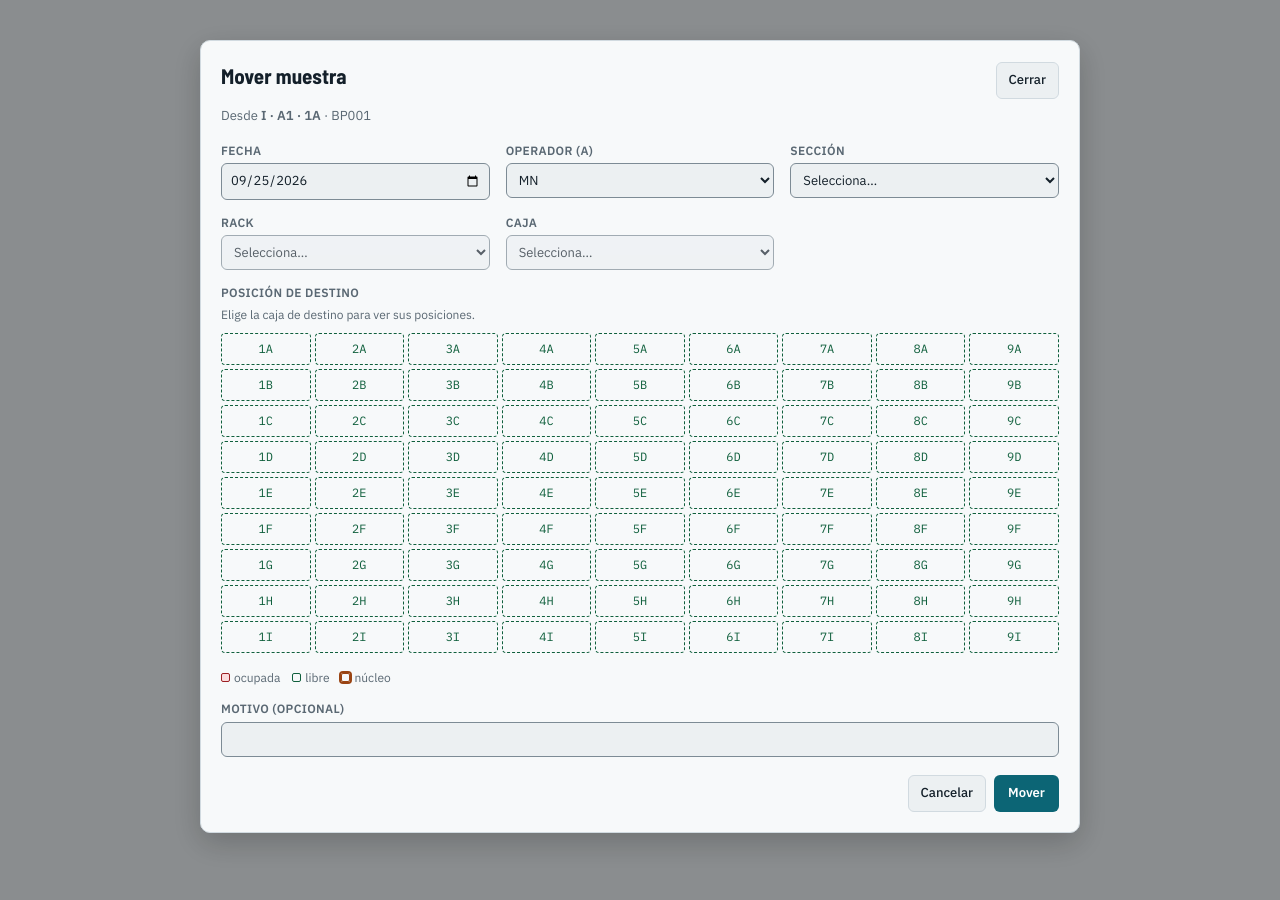
MoveModal · grilla de destino › no deja elegir posición hasta que hay una caja de destino válida
Expected: the text "Elige la caja de destino para ver sus posiciones." is shown, [221, 307, 475, 322]
Expected: the button named "posición 3b," is disabled, [408, 369, 498, 401]
Select "I" in the dropdown labelled "Sección" at (925, 181), box [790, 163, 1059, 198]
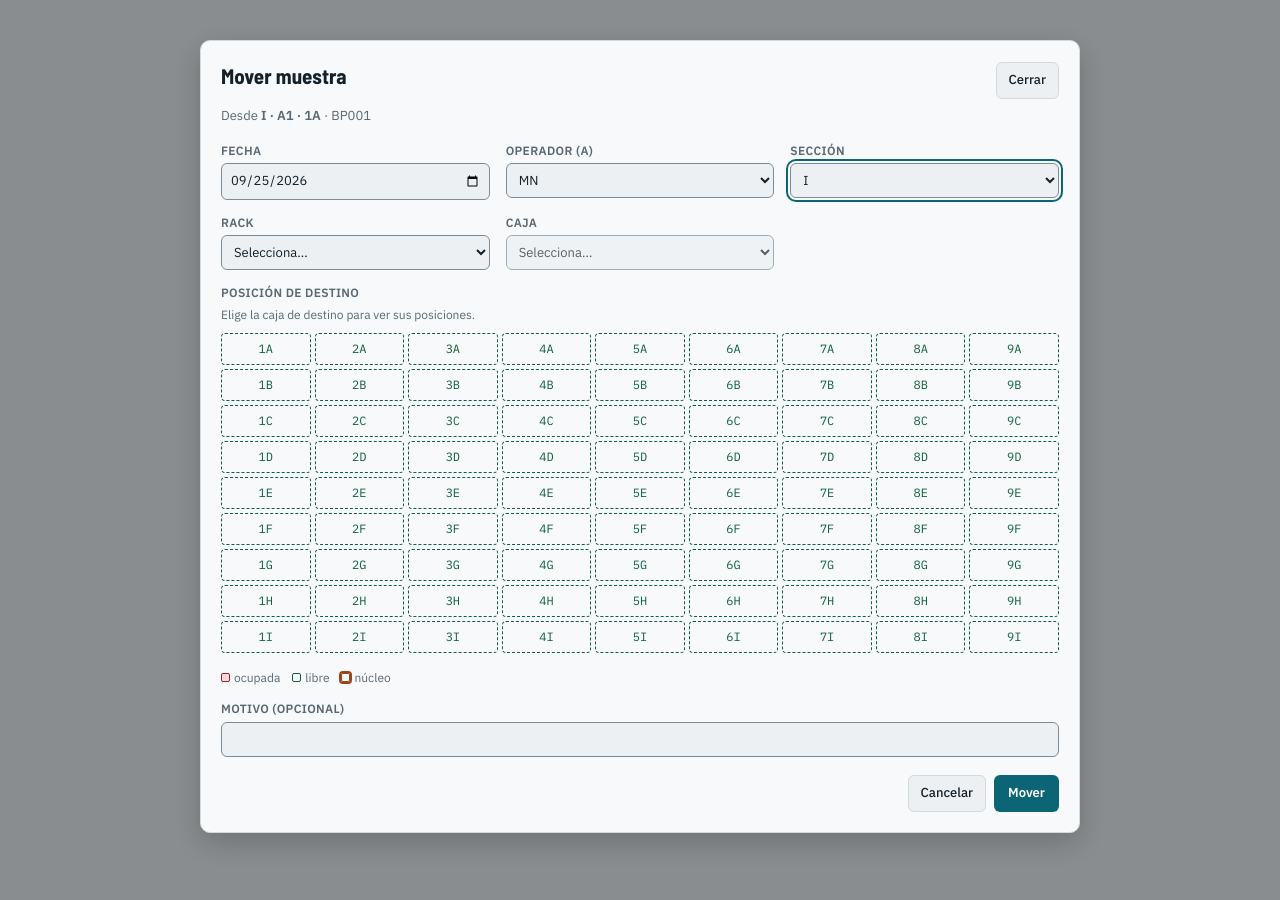
Select "A" in the dropdown labelled "Rack" at (355, 253), box [221, 235, 490, 270]
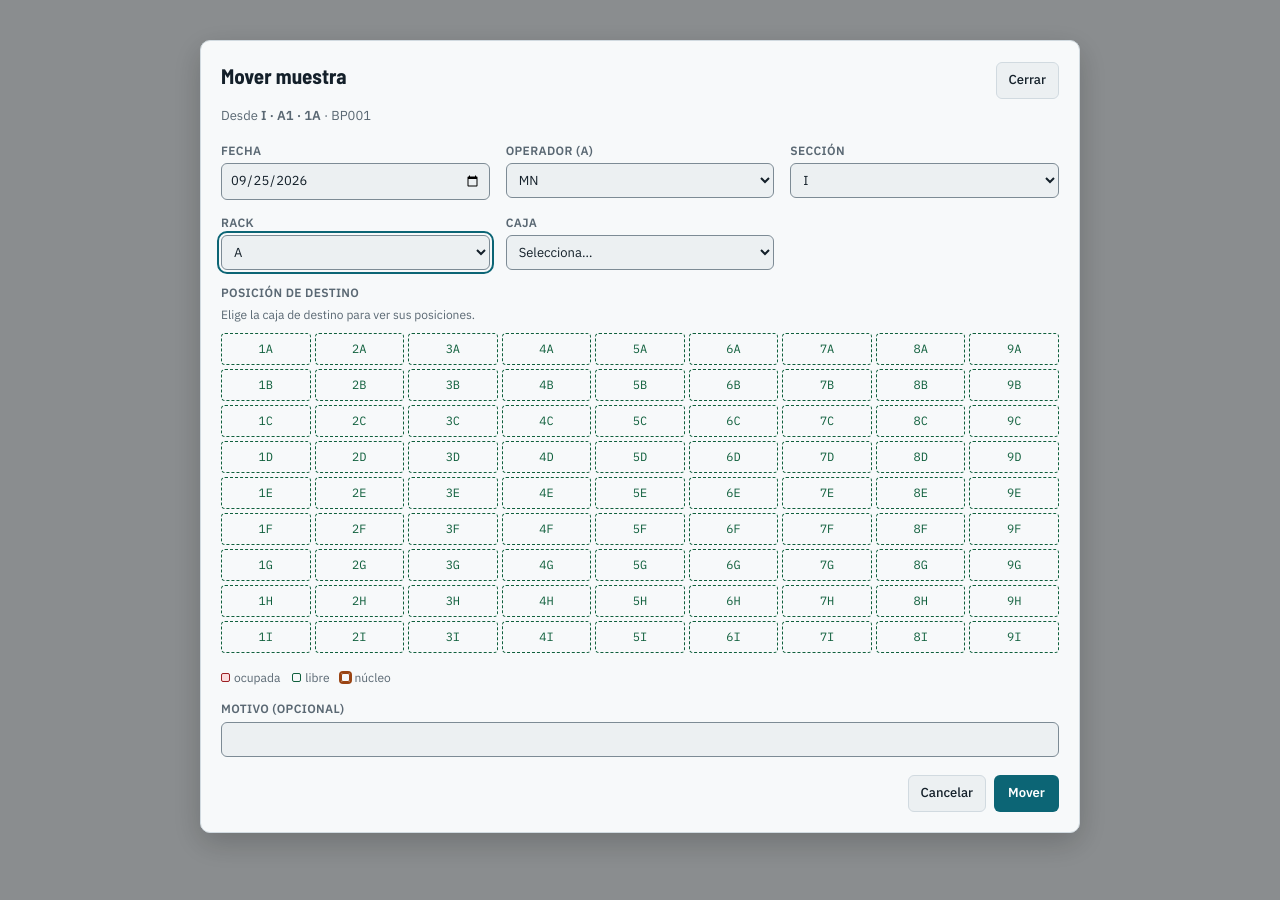
Select "A2 · 78 libres de 81" in the dropdown labelled "Caja" at (640, 253), box [506, 235, 774, 270]
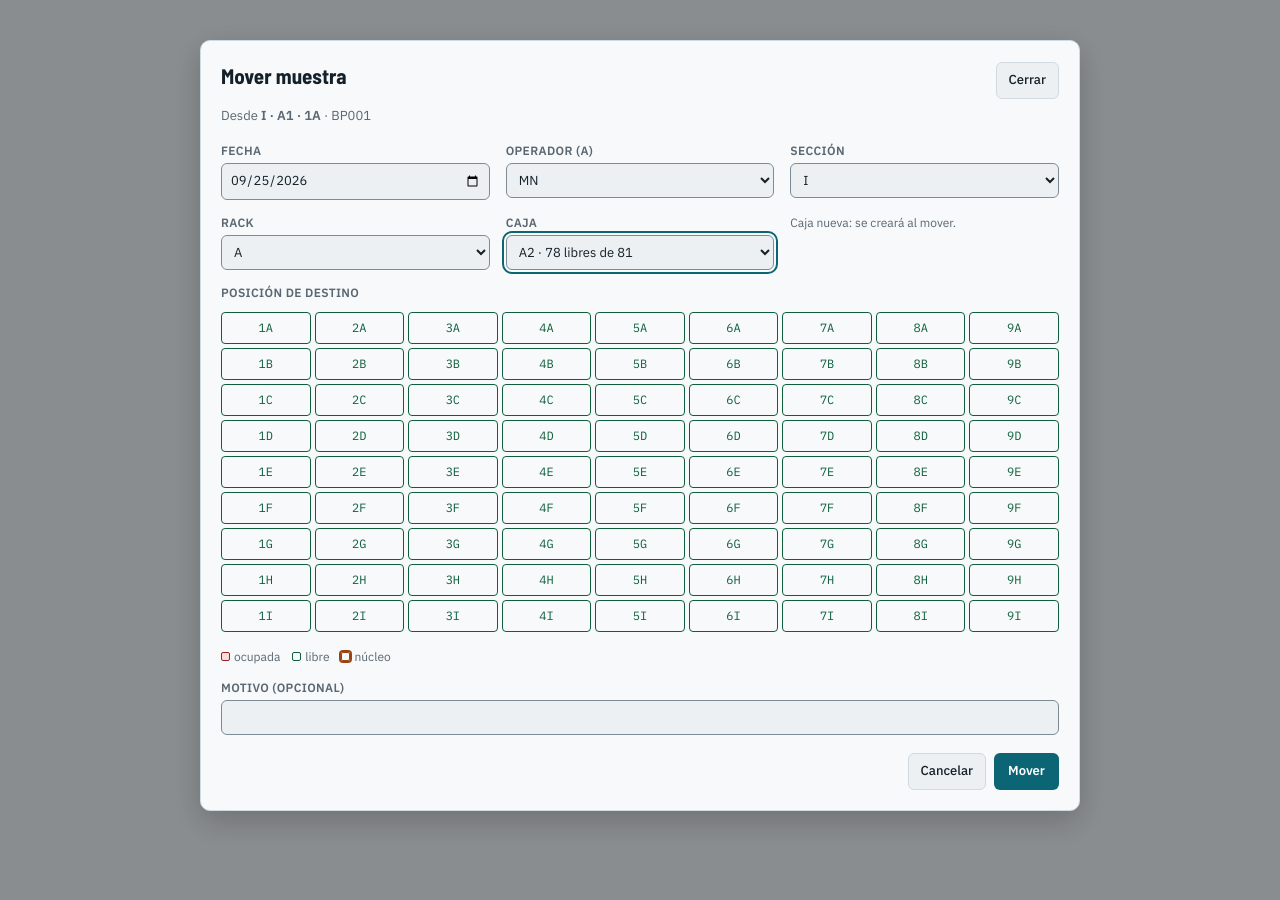
Result: the button named "posición 3b," is enabled at [408, 348, 498, 380]
Result: the text "Elige la caja de destino para ver" is gone
